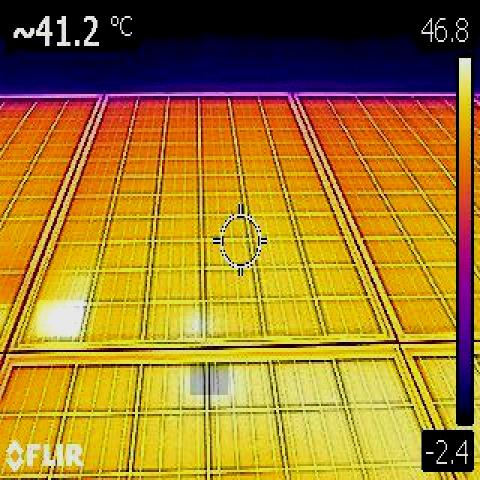fault: (37, 300, 83, 337), (190, 364, 228, 395)
